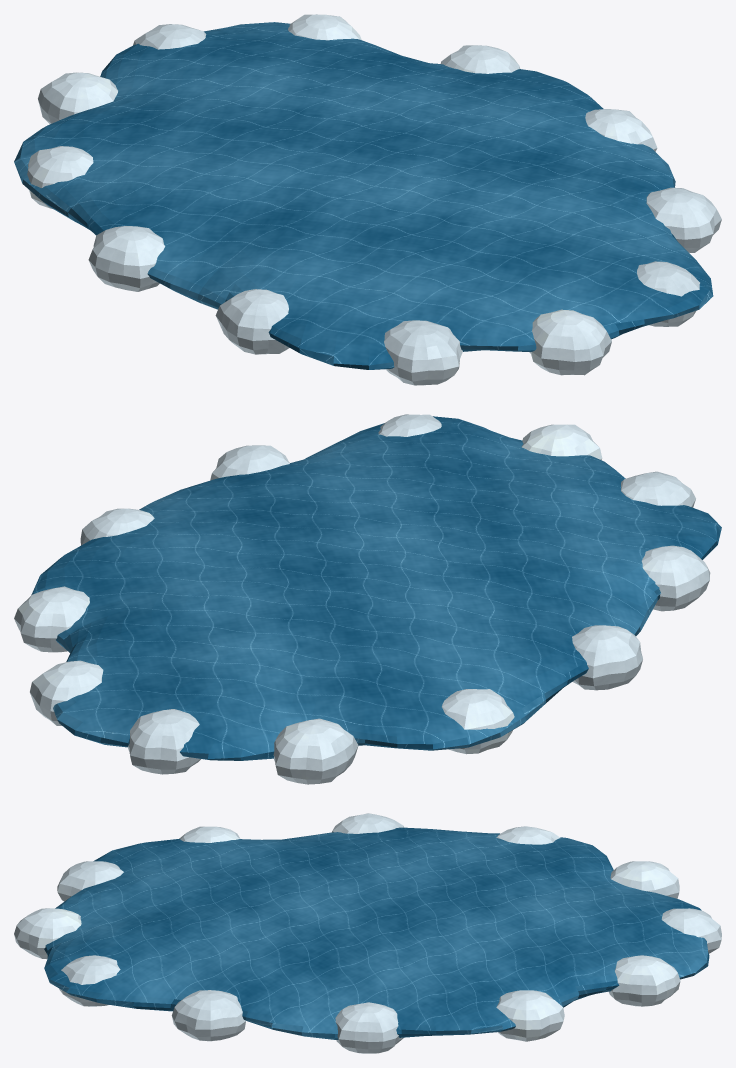
Rendered from SecondRoom_IceSheet.fbx.
3 views of the same model, one above another, from view 1: azimuth 30°, elevation 25°; view 2: azimuth 150°, elevation 25°; view 3: azimuth 270°, elevation 25° (orthographic). The views are drawn at different scales.
Parts seen in each view (by area): view 1: WO_SecondRoom_IceSheet_LOD0; view 2: WO_SecondRoom_IceSheet_LOD0; view 3: WO_SecondRoom_IceSheet_LOD0.
Boxes of the visible parts, box(x1,y1,x2,y2) form: WO_SecondRoom_IceSheet_LOD0: box(14, 14, 721, 385); WO_SecondRoom_IceSheet_LOD0: box(14, 414, 721, 784); WO_SecondRoom_IceSheet_LOD0: box(14, 813, 721, 1053).
Size of what is drawn, in the model's own units: 4.35 by 0.4949 by 6.
